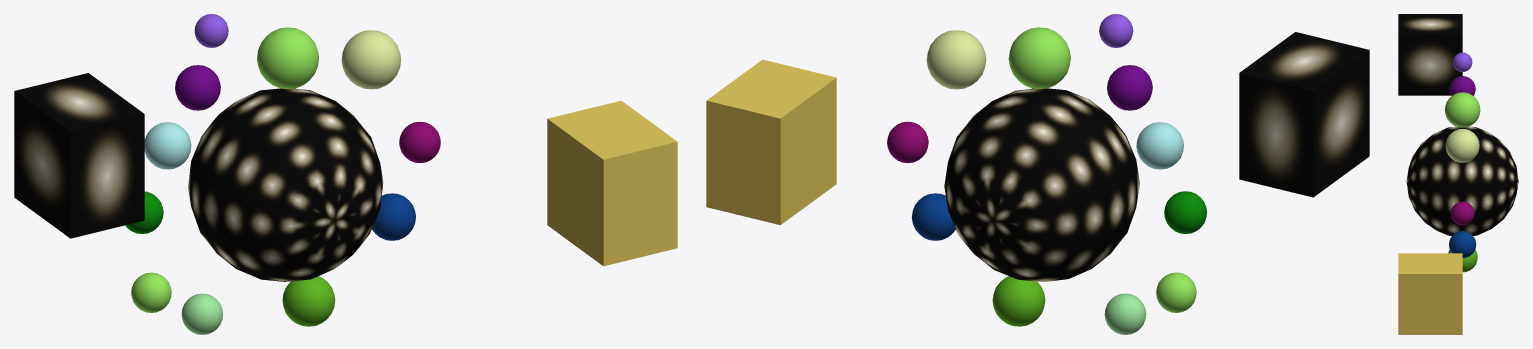
3 views of the same model, side by side, from view 1: azimuth 30°, elevation 25°; view 2: azimuth 150°, elevation 25°; view 3: azimuth 270°, elevation 25° (orthographic). The views are drawn at different scales.
Parts seen in each view (by area): view 1: GeoSphere01, Box01, Box02, GeoSphere11, GeoSphere02, GeoSphere05, GeoSphere09, GeoSphere10, GeoSphere04, GeoSphere07, GeoSphere03, GeoSphere06 (+2 smaller); view 2: GeoSphere01, Box01, Box02, GeoSphere11, GeoSphere02, GeoSphere05, GeoSphere09, GeoSphere10, GeoSphere04, GeoSphere08, GeoSphere07, GeoSphere03 (+2 smaller); view 3: GeoSphere01, Box01, Box02, GeoSphere11, GeoSphere02, GeoSphere04, GeoSphere03, GeoSphere10, GeoSphere12, GeoSphere05.
Boxes of the visible parts, x1,y1,x2,y2 form: GeoSphere01: (188, 88, 383, 281); Box01: (547, 100, 677, 266); Box02: (14, 73, 144, 238); GeoSphere11: (257, 27, 318, 89); GeoSphere02: (341, 30, 401, 89); GeoSphere05: (282, 276, 335, 326); GeoSphere09: (144, 122, 191, 169); GeoSphere10: (175, 65, 220, 110); GeoSphere04: (372, 193, 415, 240); GeoSphere07: (181, 293, 222, 334); GeoSphere03: (399, 121, 440, 162); GeoSphere06: (131, 272, 171, 312); GeoSphere01: (944, 88, 1139, 281); Box01: (706, 59, 836, 225); Box02: (1239, 32, 1369, 197); GeoSphere11: (1008, 27, 1070, 89); GeoSphere02: (926, 30, 986, 89); GeoSphere05: (992, 276, 1045, 326); GeoSphere09: (1136, 122, 1183, 169); GeoSphere10: (1107, 65, 1152, 110); GeoSphere04: (911, 193, 955, 240); GeoSphere08: (1164, 191, 1206, 233); GeoSphere07: (1104, 293, 1146, 334); GeoSphere03: (887, 121, 928, 162); GeoSphere01: (1406, 126, 1518, 235); Box01: (1398, 253, 1462, 334); Box02: (1398, 14, 1462, 95); GeoSphere11: (1444, 92, 1480, 127); GeoSphere02: (1445, 128, 1479, 162); GeoSphere04: (1449, 231, 1476, 257); GeoSphere03: (1450, 201, 1474, 225); GeoSphere10: (1449, 76, 1475, 95); GeoSphere12: (1453, 52, 1472, 71); GeoSphere05: (1448, 249, 1477, 272).
Size of the model in its own units: 169 by 88.3 by 50.56.
12 materials, 1 textured.
